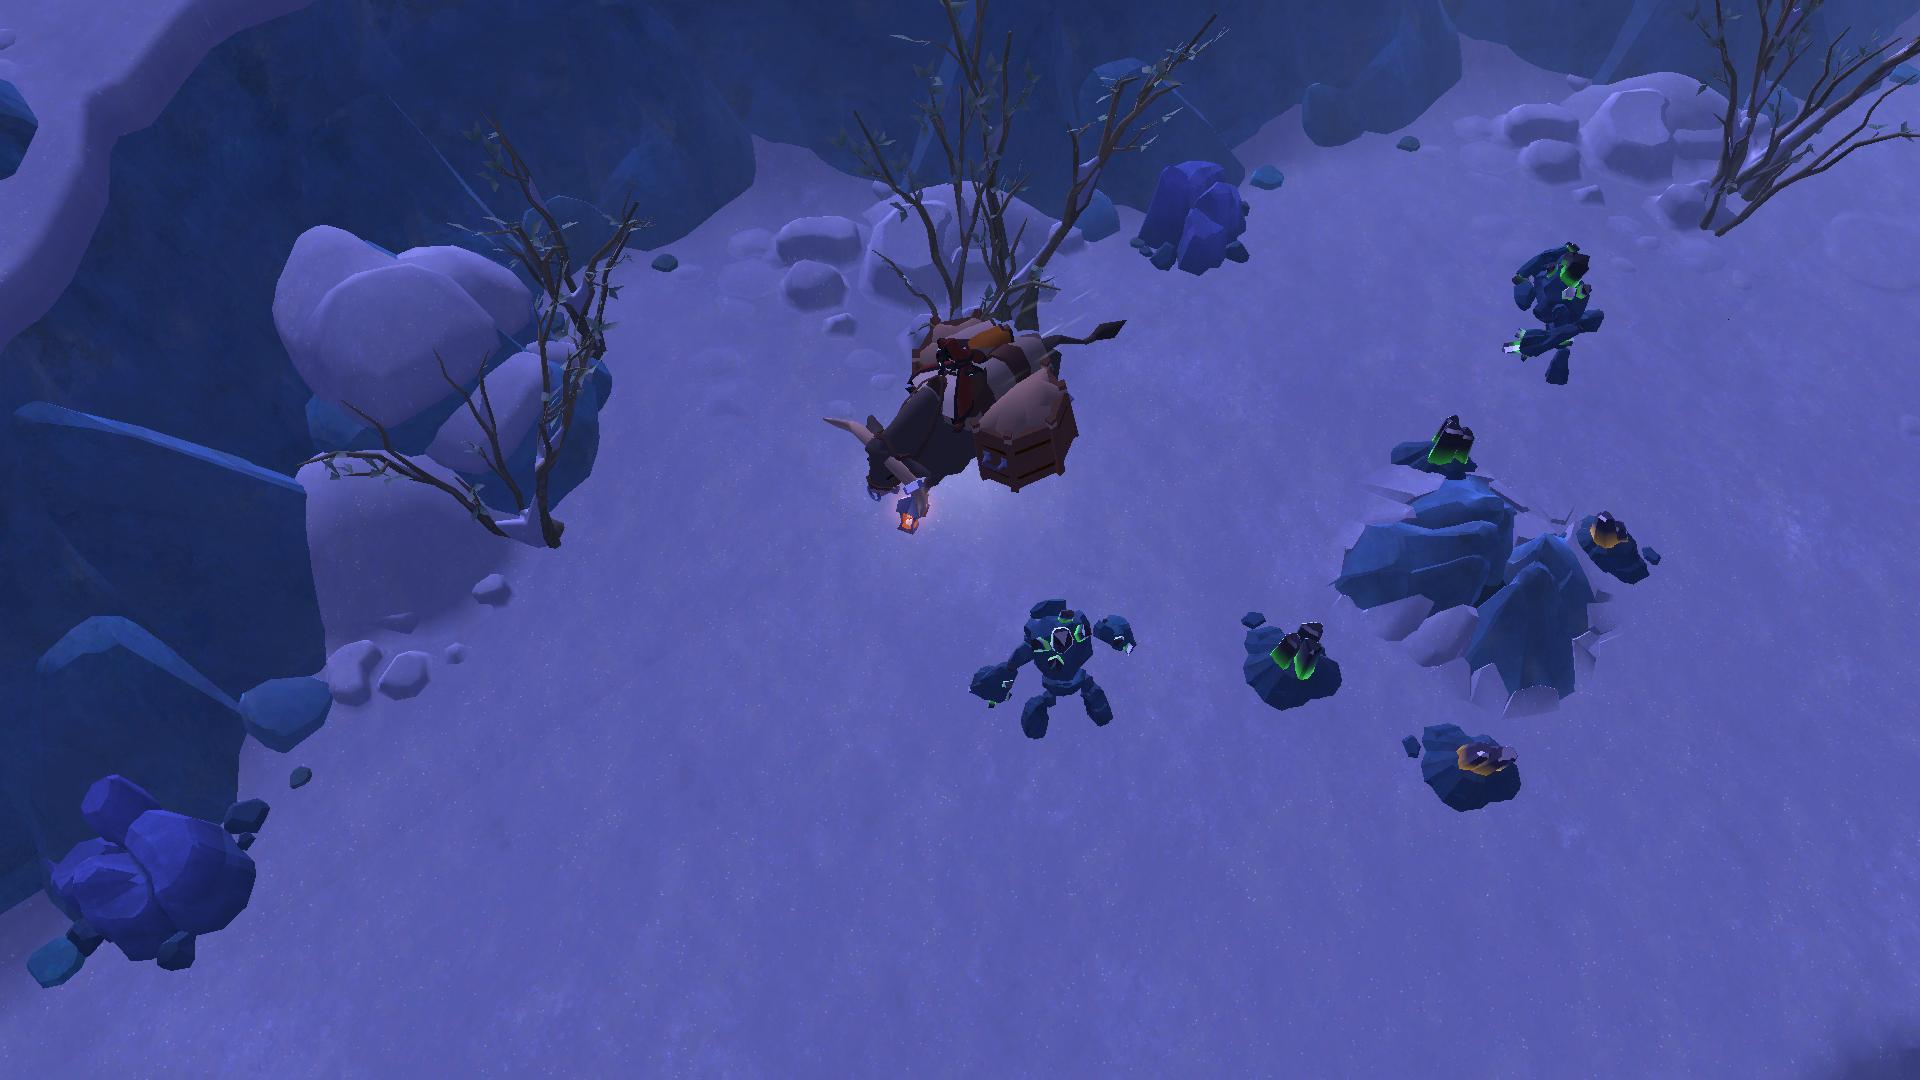ore_t3: (1270, 615, 1328, 683), (1427, 398, 1473, 472)
rock_t4: (47, 775, 261, 967), (1121, 156, 1254, 272)
